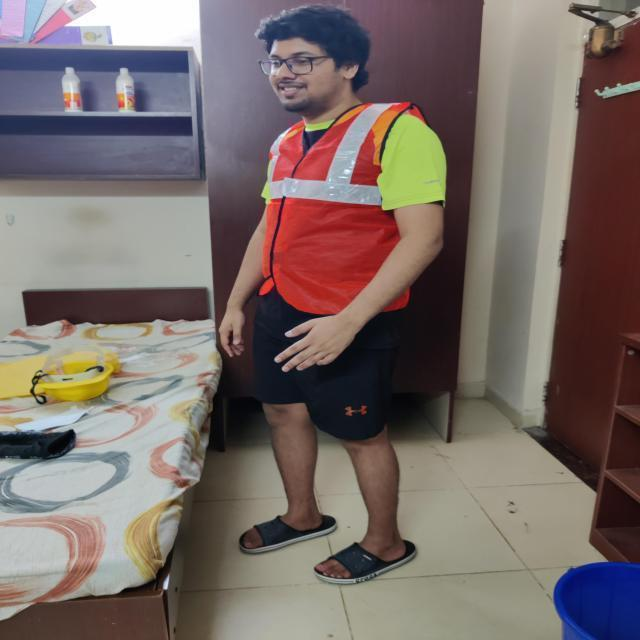no-helmet: (253, 2, 375, 82)
vest: (260, 103, 430, 311)
